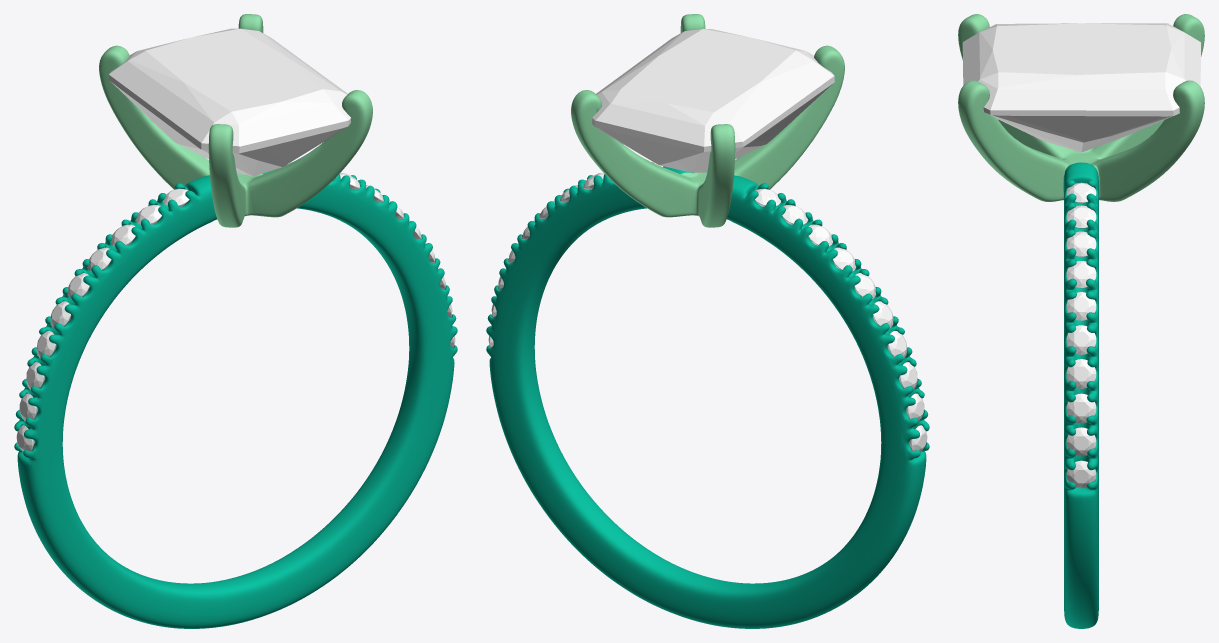
Rendered from BE1D1823_RA_200ct_RENDER.glb.
3 renders of one model, left to right at view 1: azimuth 30°, elevation 25°; view 2: azimuth 150°, elevation 25°; view 3: azimuth 270°, elevation 25°, orthographic.
Parts seen in each view (by area): view 1: Metal 01, CS_Diamond_Radiant, Metal 02; view 2: Metal 01, CS_Diamond_Radiant, Metal 02; view 3: CS_Diamond_Radiant, Metal 02, Metal 01, Diamond_Round_Gem_SH.003, Diamond_Round_Gem_SH.002, Diamond_Round_Gem_SH.004, Diamond_Round_Gem_SH.001, Diamond_Round_Gem_SH.005, Diamond_Round_Gem_SH, Diamond_Round_Gem_SH.006, Diamond_Round_Gem_SH.007, Diamond_Round_Gem_SH.008 (+1 smaller).
Boxes of the visible parts, x1=… form: Metal 01: x1=14, y1=169, x2=457, y2=628; CS_Diamond_Radiant: x1=109, y1=28, x2=350, y2=176; Metal 02: x1=99, y1=14, x2=372, y2=227; Metal 01: x1=486, y1=166, x2=929, y2=628; CS_Diamond_Radiant: x1=592, y1=29, x2=834, y2=172; Metal 02: x1=571, y1=14, x2=844, y2=227; CS_Diamond_Radiant: x1=962, y1=23, x2=1200, y2=152; Metal 02: x1=958, y1=14, x2=1204, y2=201; Metal 01: x1=1064, y1=162, x2=1098, y2=628; Diamond_Round_Gem_SH.003: x1=1066, y1=359, x2=1096, y2=388; Diamond_Round_Gem_SH.002: x1=1066, y1=393, x2=1096, y2=423; Diamond_Round_Gem_SH.004: x1=1066, y1=325, x2=1096, y2=354; Diamond_Round_Gem_SH.001: x1=1066, y1=427, x2=1096, y2=456; Diamond_Round_Gem_SH.005: x1=1066, y1=292, x2=1096, y2=320; Diamond_Round_Gem_SH: x1=1066, y1=460, x2=1096, y2=488; Diamond_Round_Gem_SH.006: x1=1066, y1=261, x2=1096, y2=288; Diamond_Round_Gem_SH.007: x1=1066, y1=231, x2=1096, y2=256; Diamond_Round_Gem_SH.008: x1=1066, y1=205, x2=1096, y2=228.
Size of the model in its own units: 20.3 by 24.68 by 9.92.
